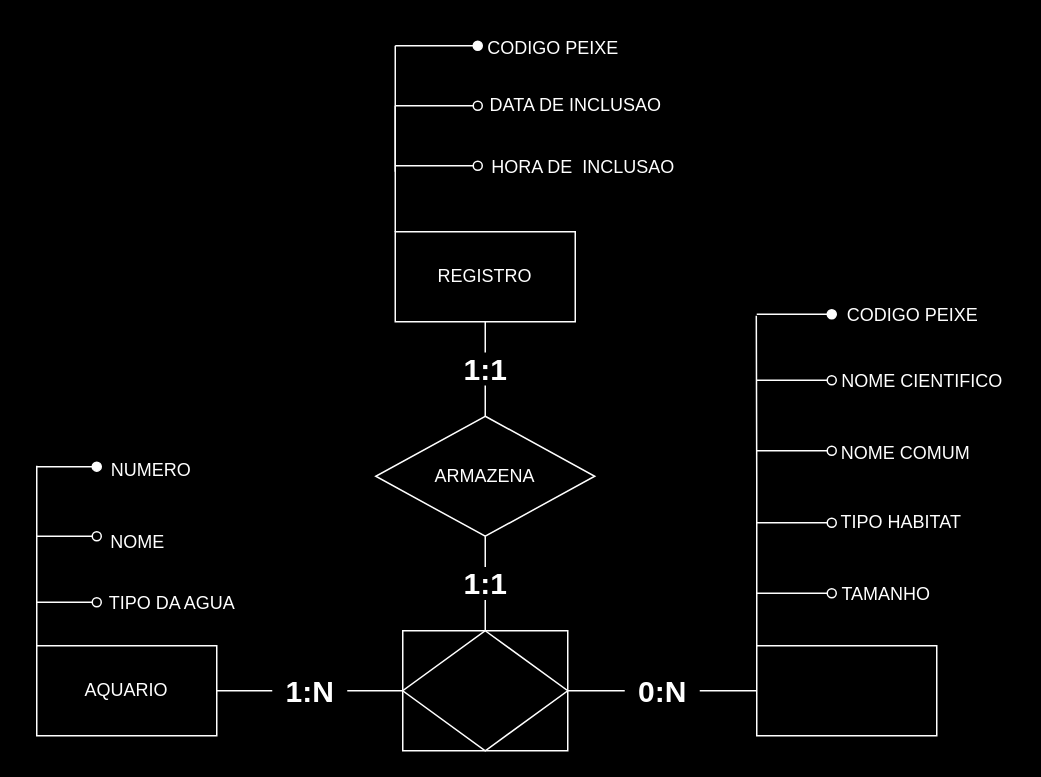
Image size: 1041x777. Some labels were removed from this diagram. Each missing label, with the box of its shape:
COMPORTAR: (401, 629, 568, 751)
PEIXE: (755, 644, 937, 736)
